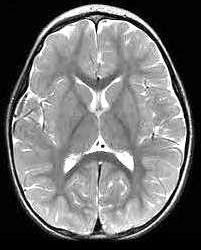Normal_Brain: (2, 1, 201, 250)
